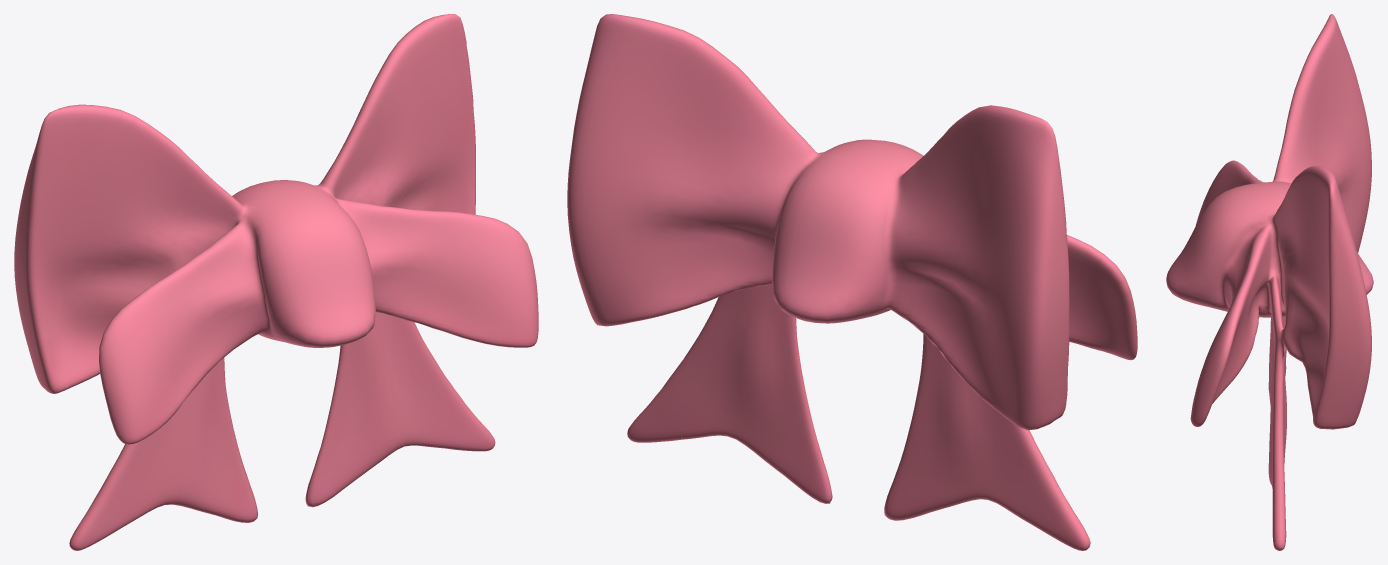
Rendered from ribbon.glb.
The picture shows the model from 3 angles, left to right: view 1: azimuth 30°, elevation 25°; view 2: azimuth 150°, elevation 25°; view 3: azimuth 270°, elevation 25°; orthographic projection. The views are drawn at different scales.
Parts seen in each view (by area): view 1: base; view 2: base; view 3: base.
Part boxes in pixels (bbox=[...]): base: bbox=[14, 14, 538, 550]; base: bbox=[567, 14, 1137, 550]; base: bbox=[1166, 14, 1373, 550].
Bounding box in the file's own units: 1.78 × 1.63 × 0.8162.
1 material, 1 textured.
